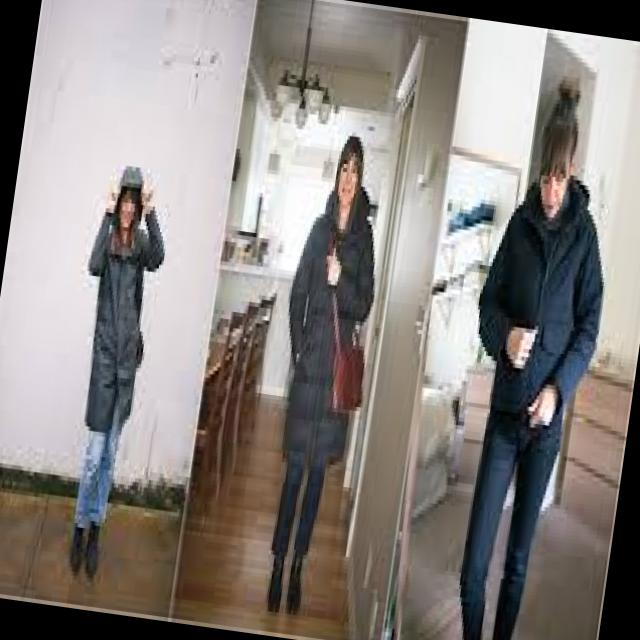Jacket: (453, 177, 624, 459), (268, 198, 391, 475), (58, 210, 174, 442)
